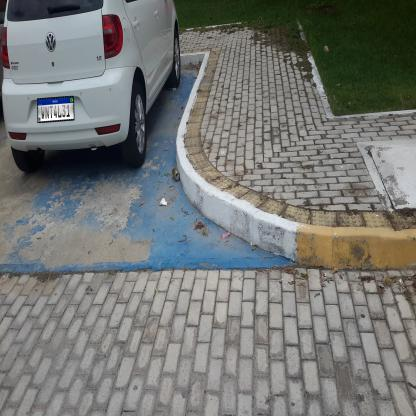PlacaM: (37, 96, 74, 123)
